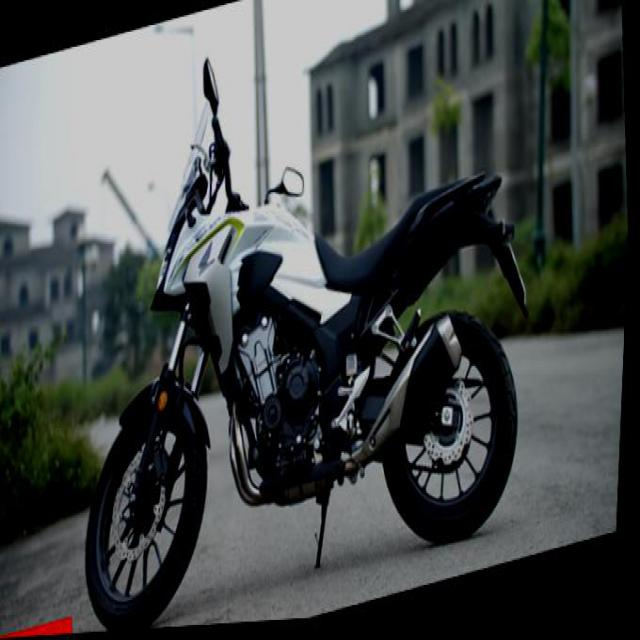CB500X: (54, 0, 558, 635)
